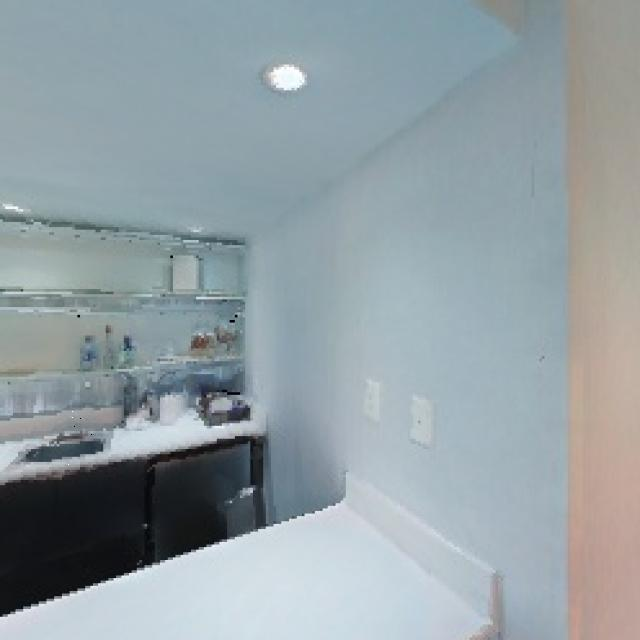sink: (13, 408, 116, 473)
